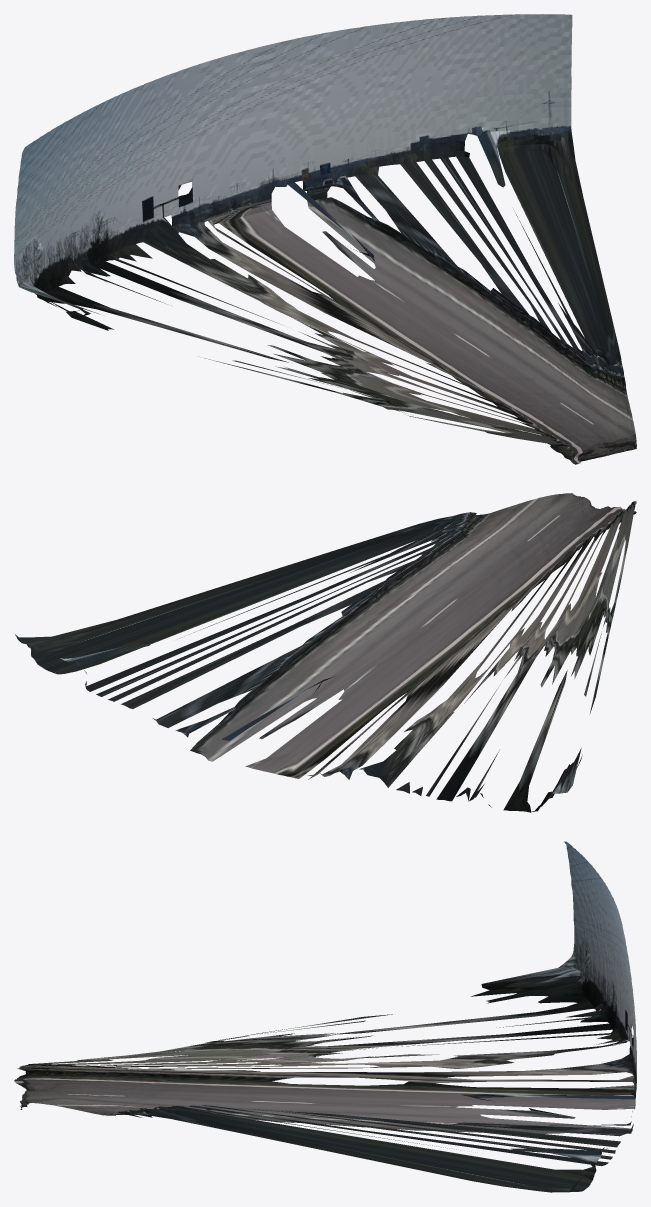
3 renders of one model, top to bottom at view 1: azimuth 30°, elevation 25°; view 2: azimuth 150°, elevation 25°; view 3: azimuth 270°, elevation 25°, orthographic. The views are drawn at different scales.
Visible parts, largest first — view 1: defaultobject; view 2: defaultobject; view 3: defaultobject.
Boxes of the visible parts, bbox=[...] form: defaultobject: bbox=[14, 14, 636, 464]; defaultobject: bbox=[15, 493, 636, 812]; defaultobject: bbox=[14, 841, 636, 1192].
Bounding box in the file's own units: 41.16 × 12.57 × 44.67.
1 material, 1 textured.
